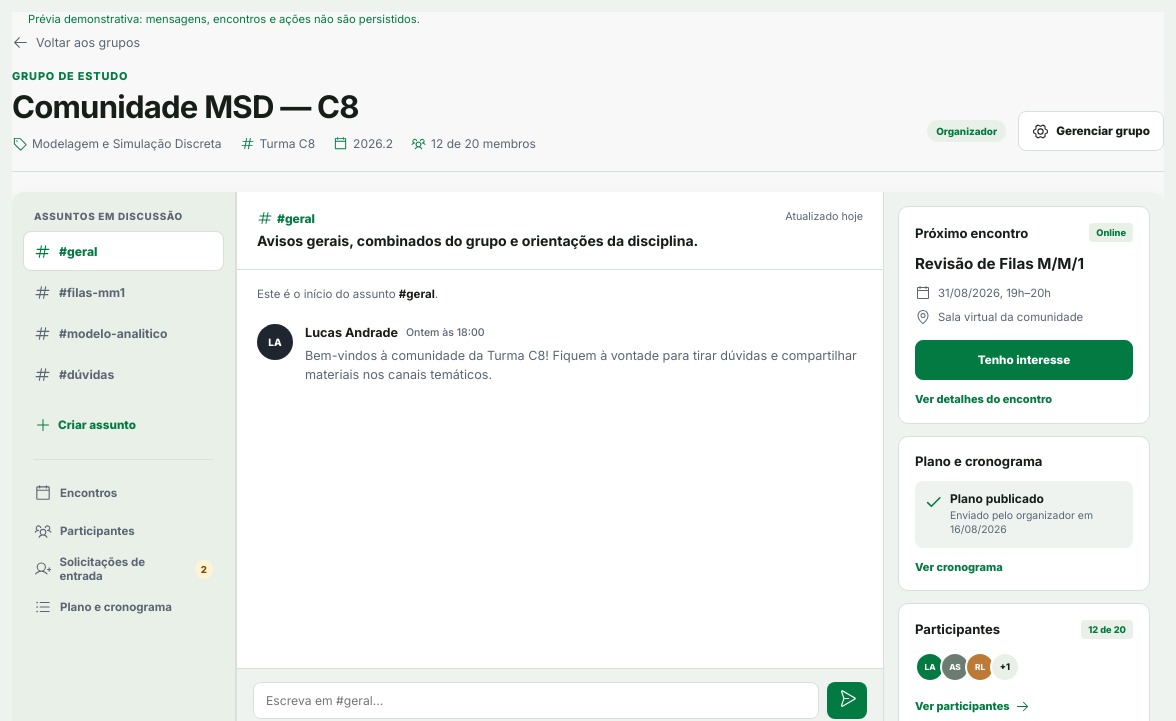
Test: GroupDetailView › permite registrar interesse no próximo encontro com feedback
Click the button "Tenho interesse". click: (1024, 360)
box: [915,340,1133,380]
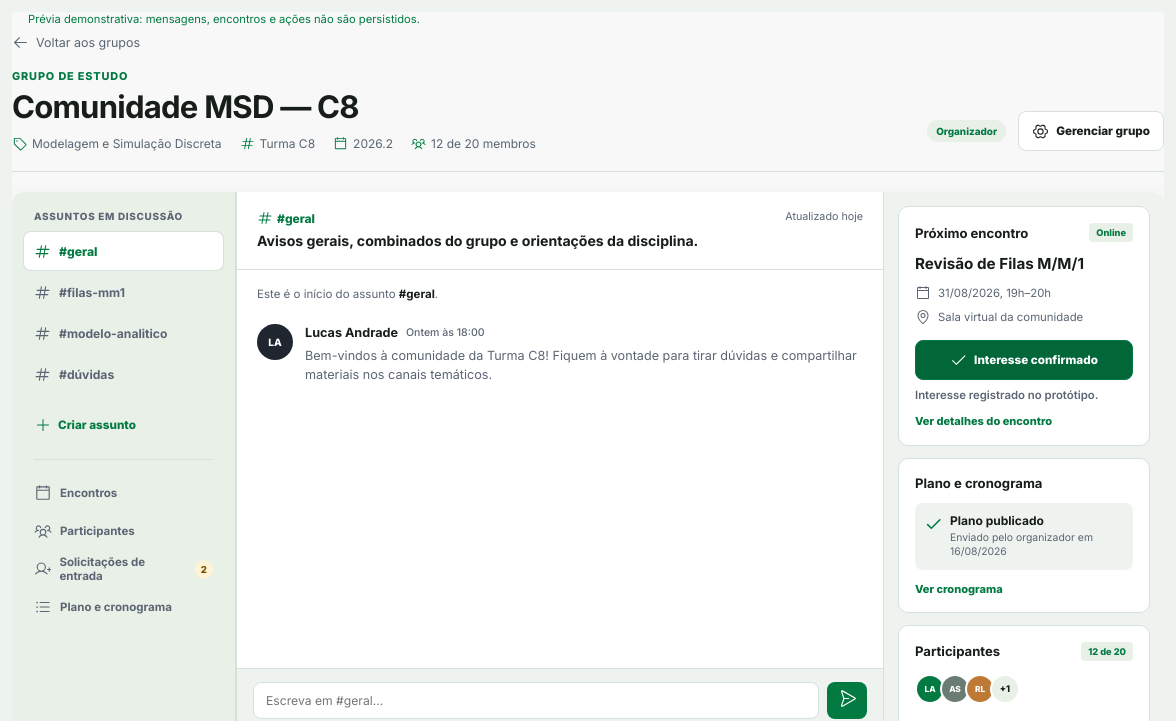
Now the text "Interesse registrado no protótipo." is shown, box [915,388,1098,402]
Now the button "Interesse confirmado" is shown, box [915,340,1133,380]
